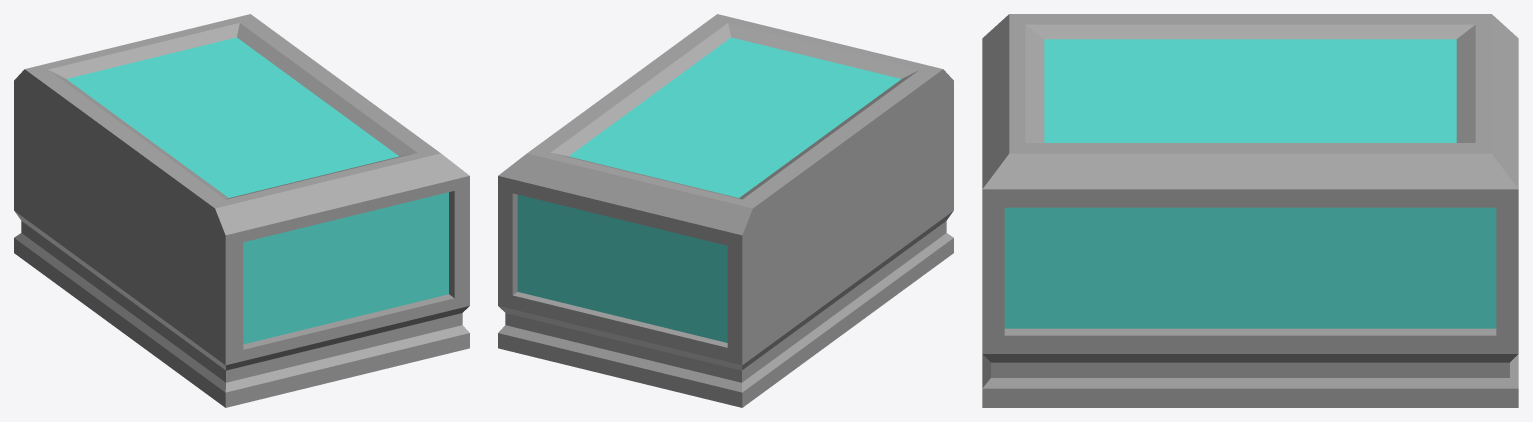
The model's file is Chest1.fbx.
The picture shows the model from 3 angles, left to right: view 1: azimuth 30°, elevation 25°; view 2: azimuth 150°, elevation 25°; view 3: azimuth 270°, elevation 25°; orthographic projection. The views are drawn at different scales.
Parts seen in each view (by area): view 1: pCube35; view 2: pCube35; view 3: pCube35.
Part boxes in pixels (x1,y1,x2,y2): pCube35: [14, 14, 469, 407]; pCube35: [498, 14, 953, 407]; pCube35: [982, 14, 1518, 407].
Bounding box in the file's own units: 200 × 150 × 300.
